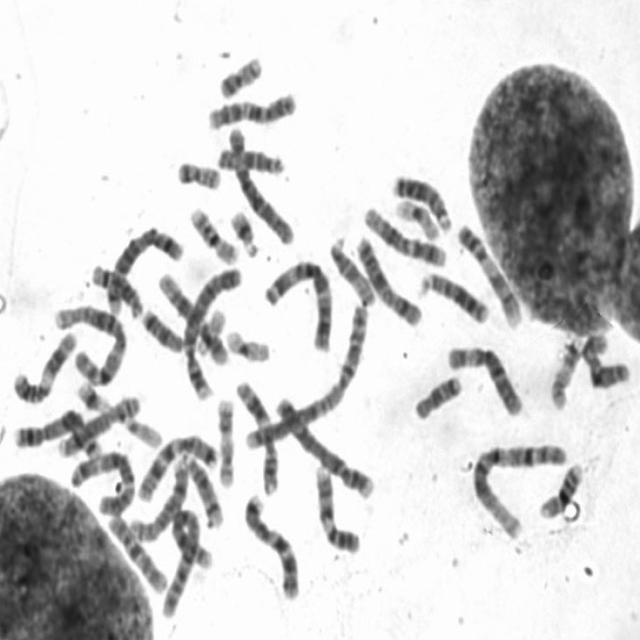A1: (467, 433, 570, 540), (48, 295, 130, 387)
A2: (238, 293, 374, 455), (154, 498, 213, 620)
A3: (259, 250, 335, 353), (64, 441, 138, 517)
B4: (269, 386, 377, 500), (177, 257, 244, 403)
B5: (101, 217, 186, 316), (8, 400, 104, 461)
C10: (102, 505, 170, 596), (202, 84, 299, 131)
C11: (231, 373, 281, 496), (6, 323, 79, 405)
C12: (152, 264, 231, 367), (358, 196, 449, 267)
C6: (222, 117, 296, 245), (441, 336, 526, 418)
C7: (238, 486, 303, 602), (132, 424, 222, 503)
C8: (124, 448, 192, 544), (52, 387, 142, 459)
C9: (452, 215, 525, 329), (309, 457, 363, 555)
D13: (386, 165, 456, 236), (414, 263, 492, 325)
D14: (177, 444, 226, 528), (86, 254, 144, 318)
D15: (324, 229, 378, 308), (212, 138, 288, 177)
E16: (185, 197, 241, 266), (534, 453, 586, 520)
E17: (545, 330, 583, 411), (212, 390, 238, 489)
E18: (408, 366, 464, 422), (138, 300, 186, 354)
F19: (390, 188, 442, 241), (220, 320, 274, 364)
F20: (213, 45, 266, 100), (172, 151, 224, 192)
G21: (225, 201, 261, 258), (72, 373, 112, 413)
G22: (193, 300, 229, 360), (116, 406, 164, 449)
X: (351, 226, 425, 328), (576, 324, 633, 390)
